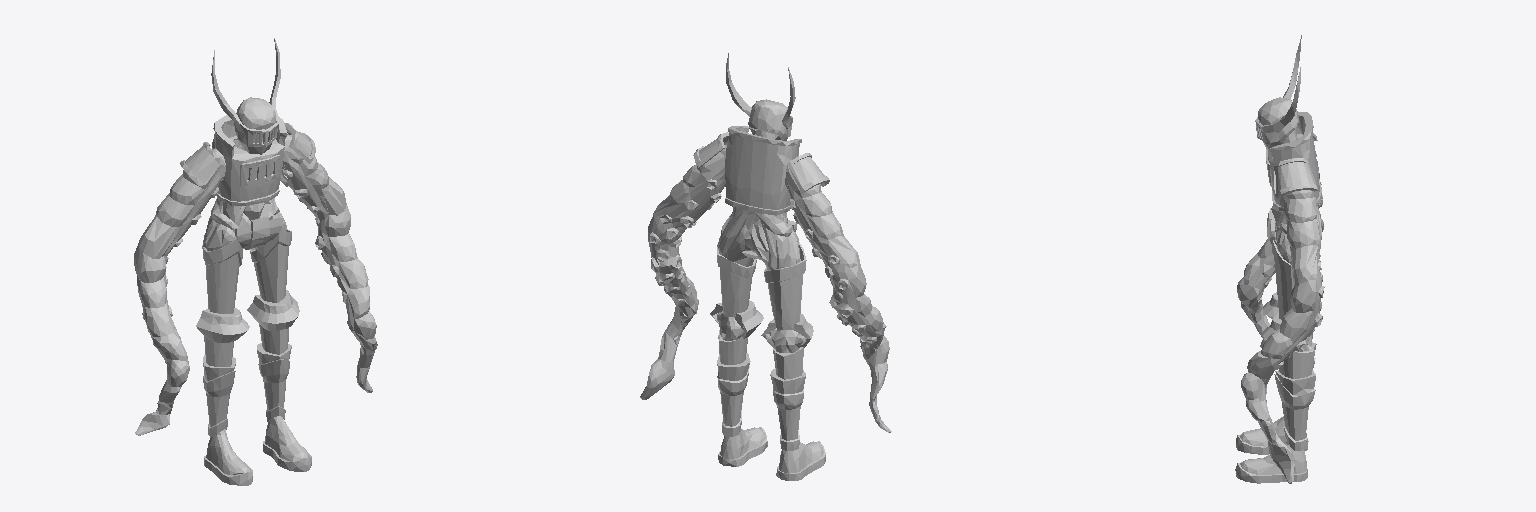
Rendered from alien.obj.
The picture shows the model from 3 angles: view 1: azimuth 30°, elevation 25°; view 2: azimuth 150°, elevation 25°; view 3: azimuth 270°, elevation 25°; orthographic projection.
Visible parts, largest first — view 1: Merged_PM3D_Sphere3D:Group24475; view 2: Merged_PM3D_Sphere3D:Group24475; view 3: Merged_PM3D_Sphere3D:Group24475.
Boxes of the visible parts, <box> form: Merged_PM3D_Sphere3D:Group24475: <box>134,38,377,485</box>; Merged_PM3D_Sphere3D:Group24475: <box>640,53,891,480</box>; Merged_PM3D_Sphere3D:Group24475: <box>1235,35,1324,483</box>.
Size of the model in its own units: 1.82 by 2.94 by 0.5747.